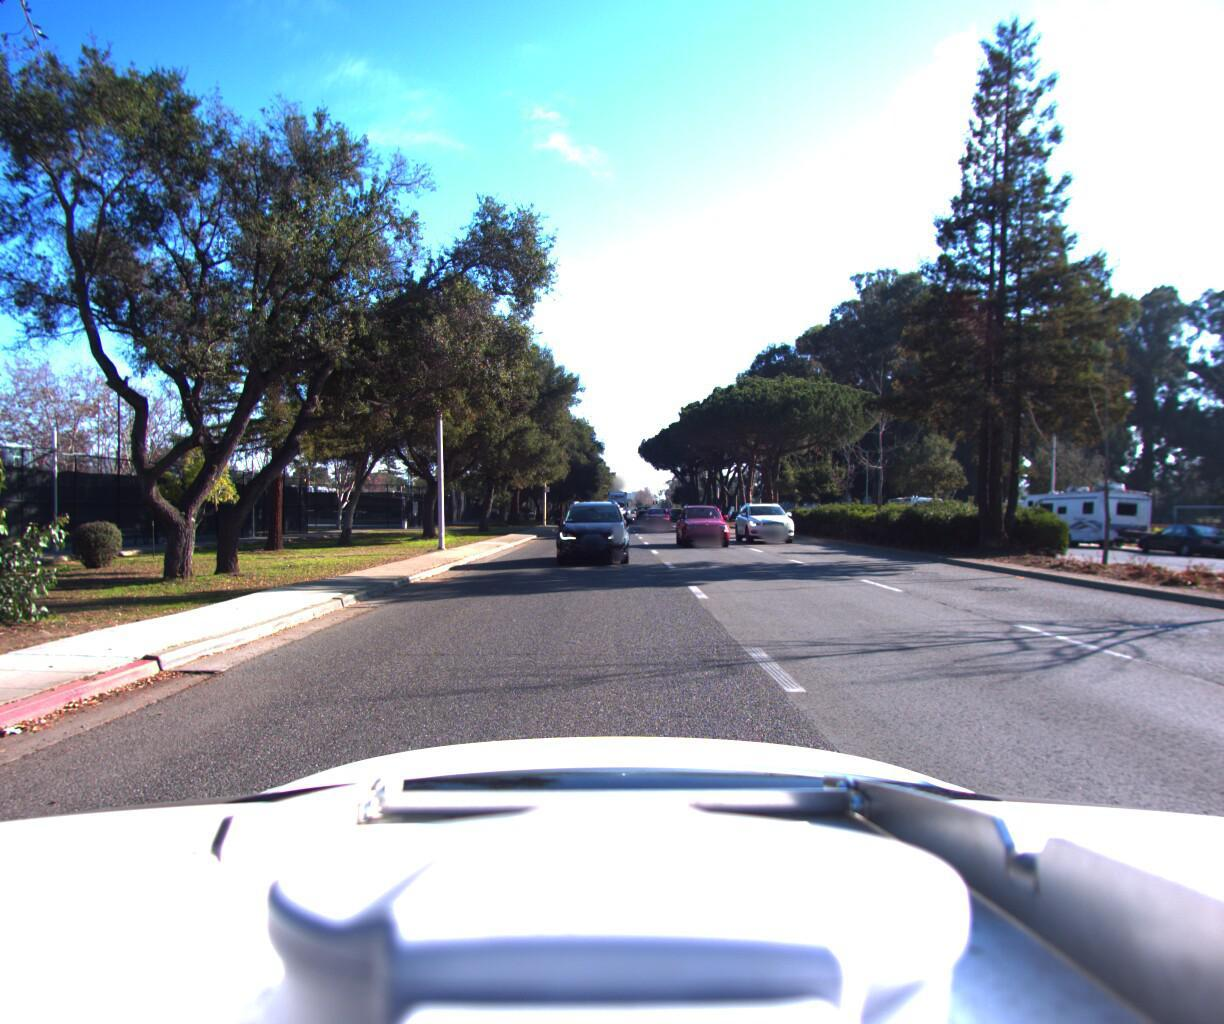car: (548, 498, 630, 576), (1127, 526, 1224, 567), (729, 502, 798, 551), (674, 506, 730, 554), (642, 507, 670, 532)
other_vehicle: (1009, 484, 1157, 556), (879, 498, 944, 542)
